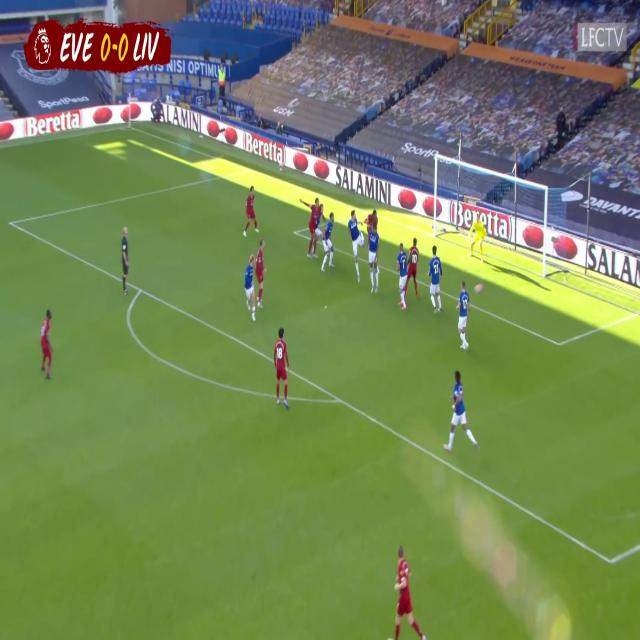Ball: (39, 308, 57, 382), (472, 278, 484, 296)
GoalKeeper: (467, 217, 487, 258)
TEAM 1: (390, 537, 429, 640), (274, 330, 292, 410), (305, 199, 324, 260), (408, 234, 420, 310), (256, 237, 268, 311), (244, 188, 261, 238), (318, 200, 324, 264), (367, 205, 379, 232)
TEAM 2: (444, 368, 482, 454), (244, 248, 265, 321), (348, 209, 364, 288), (428, 248, 445, 316), (456, 282, 472, 352), (322, 210, 336, 279), (396, 244, 411, 308), (368, 228, 379, 299)
